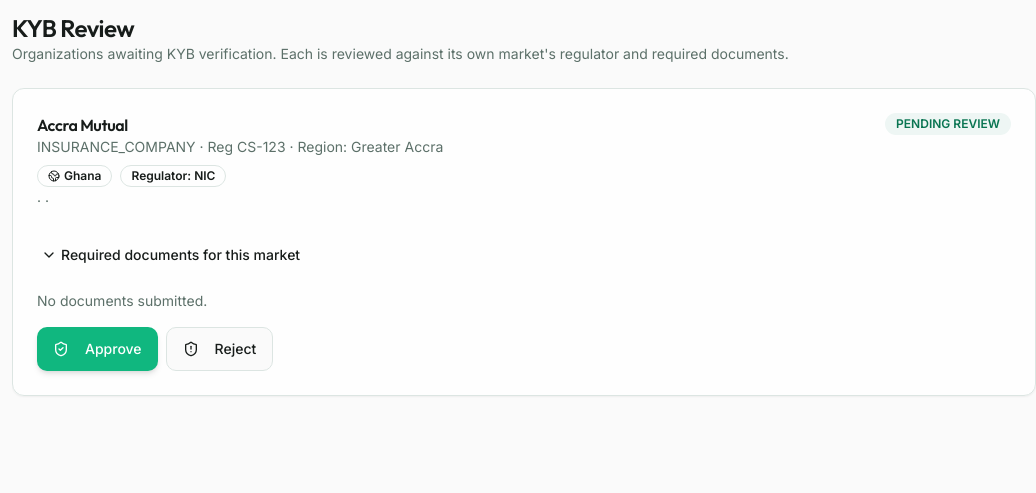
Test: OrgKybReviewPage › warns when the checklist was built for a different market than the card names
Expected: the heading "Accra Mutual" is shown, x1=37 y1=115 x2=128 y2=135
Click the button "Required documents for this market": (171, 255) x1=29 y1=235 x2=312 y2=275
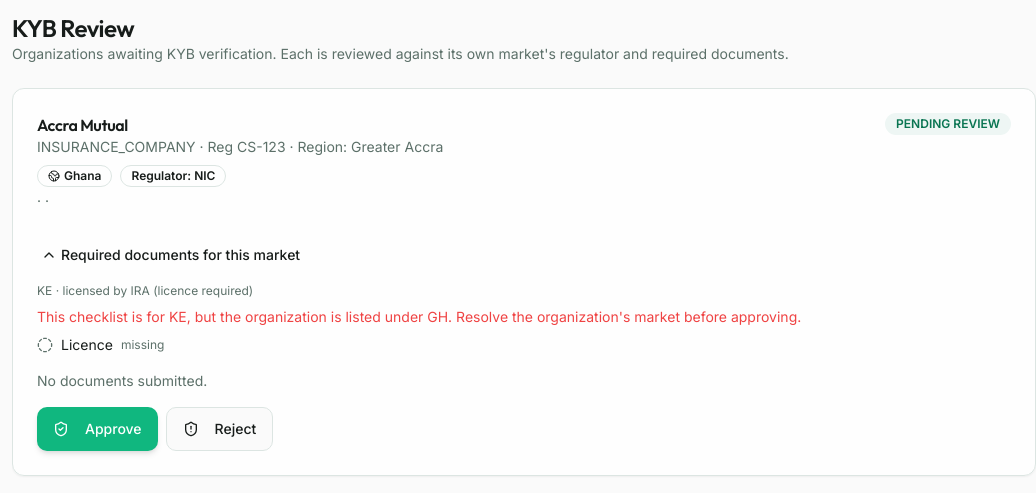
Now the text "This checklist is for KE, but the organization is listed under GH" is shown, box x1=37 y1=308 x2=452 y2=325
